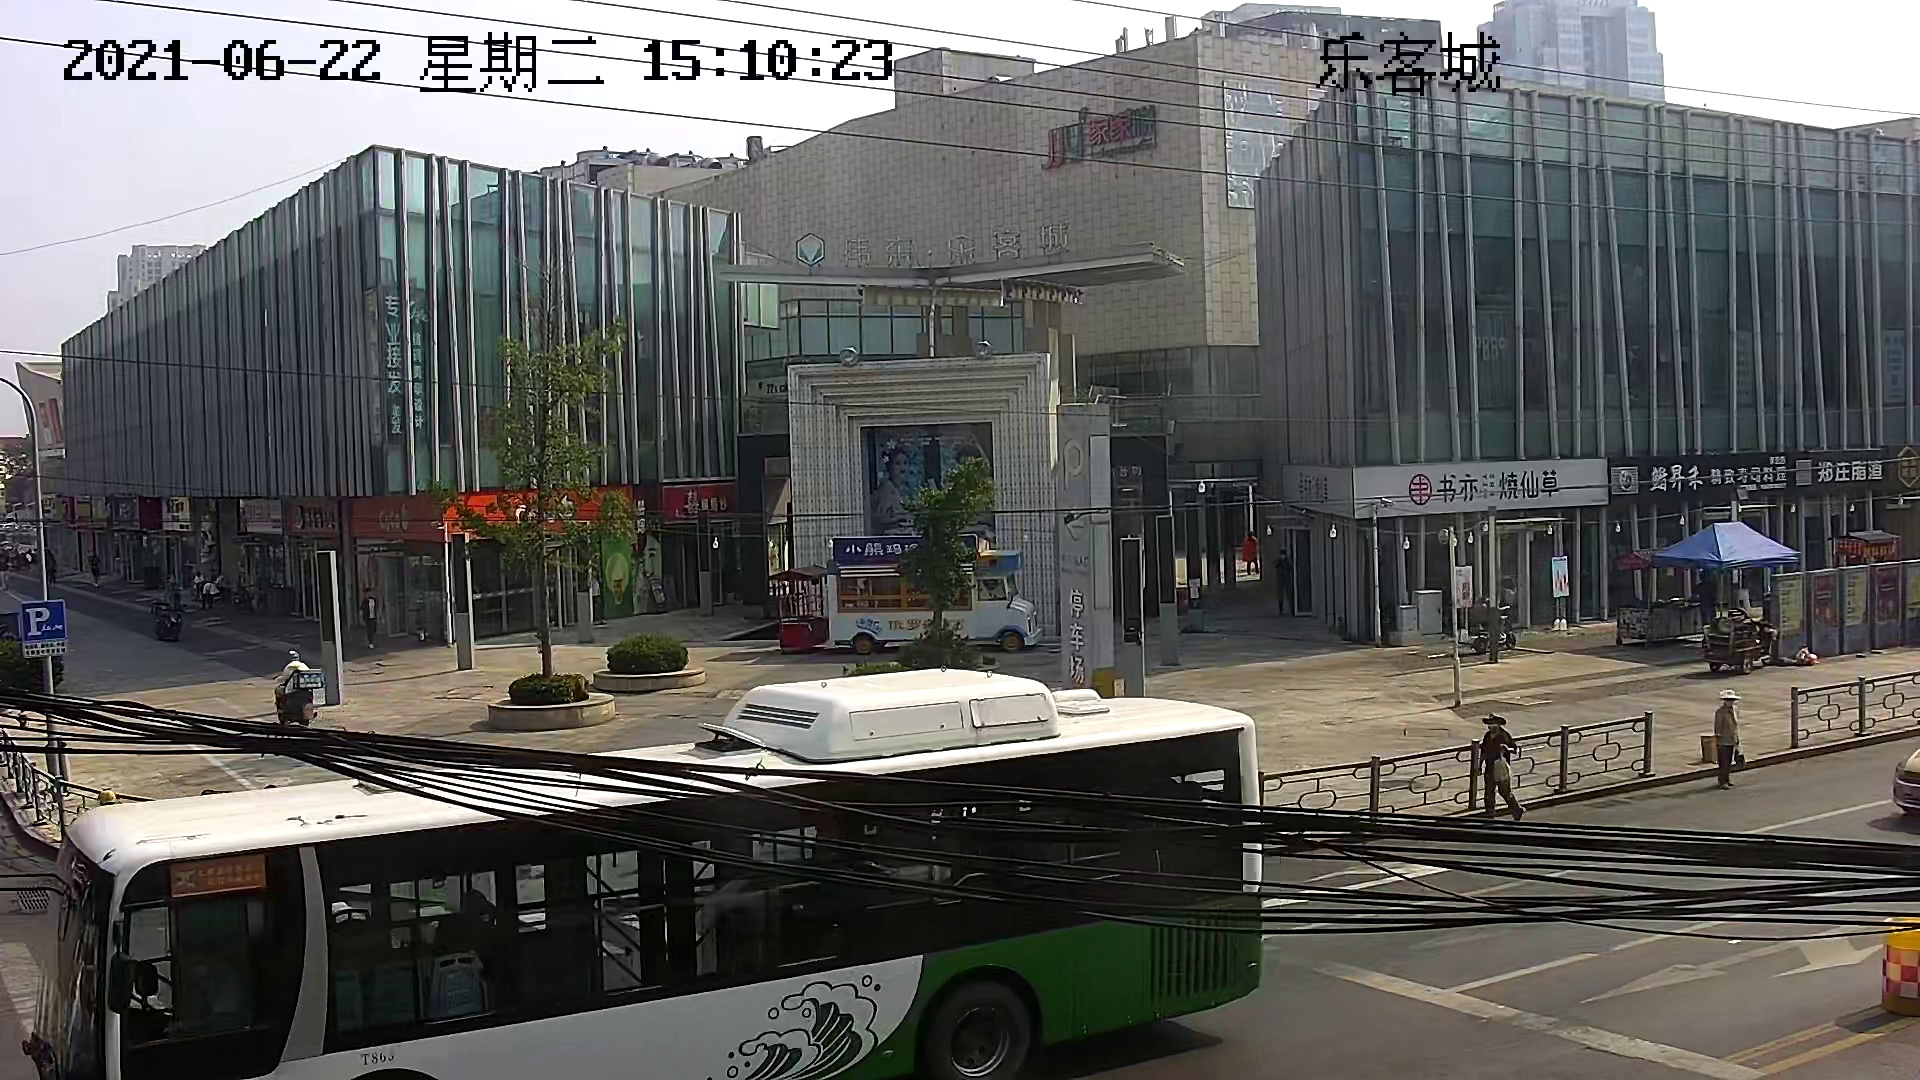umbrella: (1648, 520, 1801, 572)
